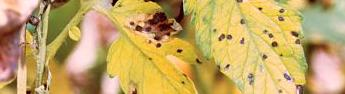Tomato leaf bacterial spot: (185, 0, 307, 94), (100, 0, 207, 94)
